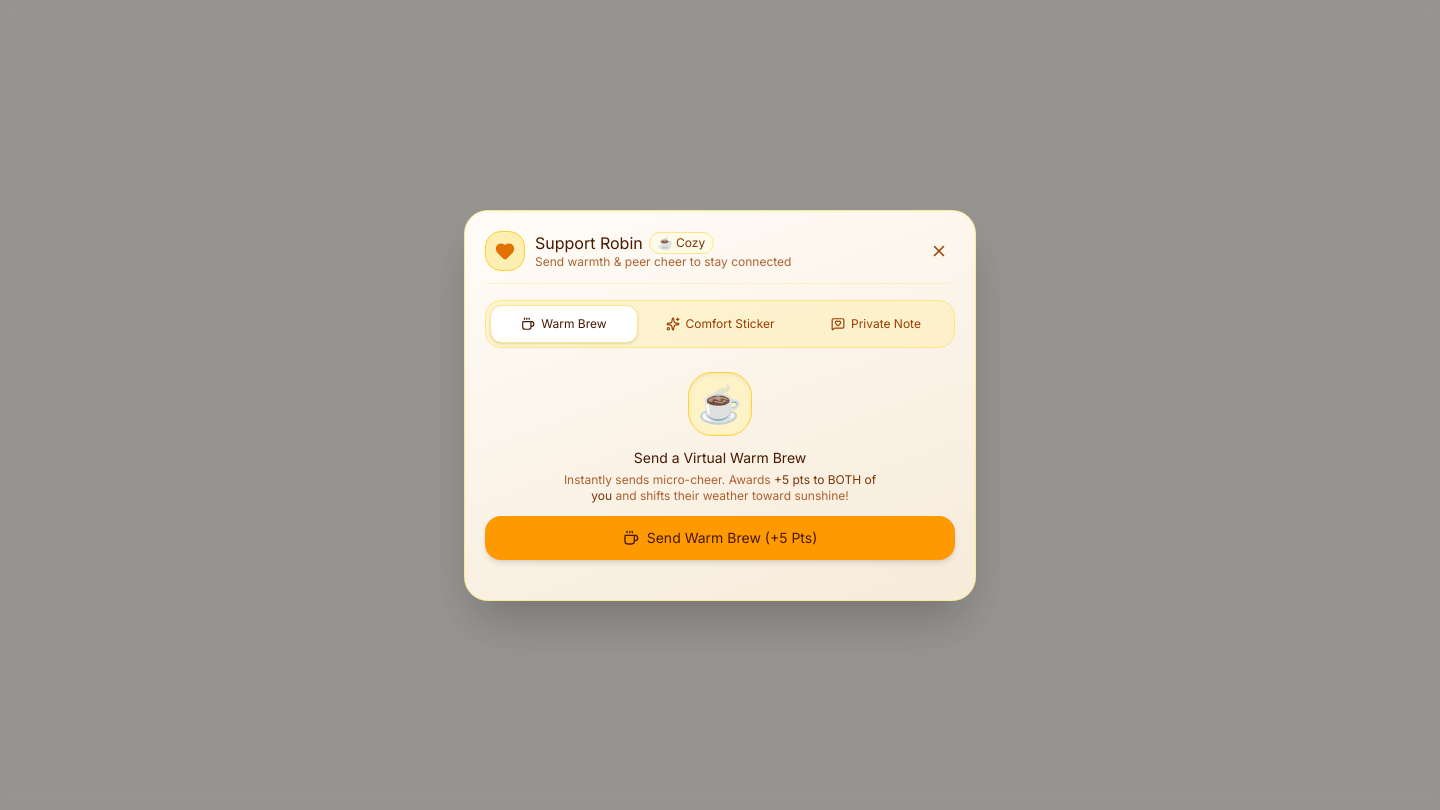
Test: PeerSupportDrawer Component › handles Warm Brew failure gracefully
Click the button "Send Warm Brew (+5 Pts)": (720, 538) [485,516,955,560]
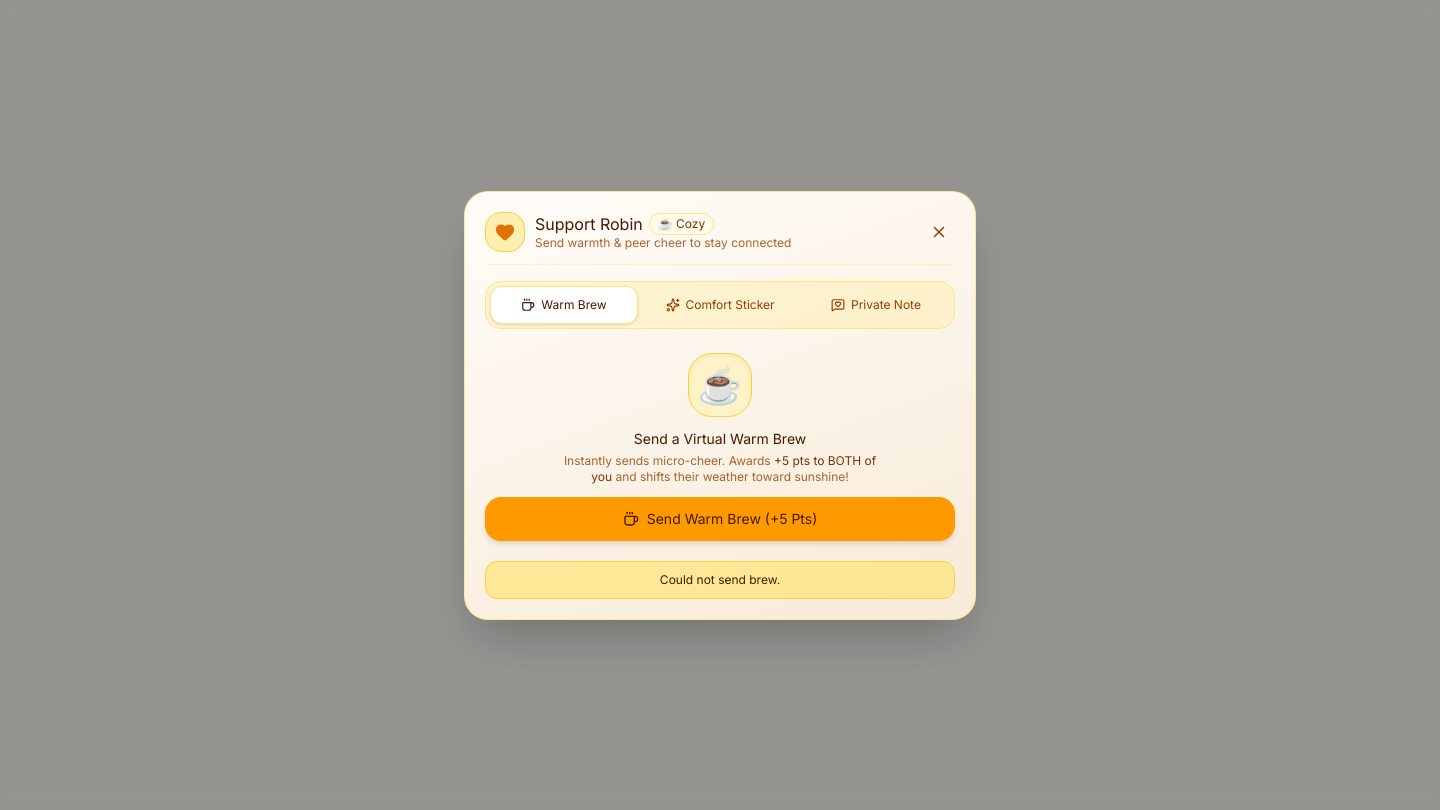
Check: the text "Could not send brew." is shown, box [485,560,955,598]
